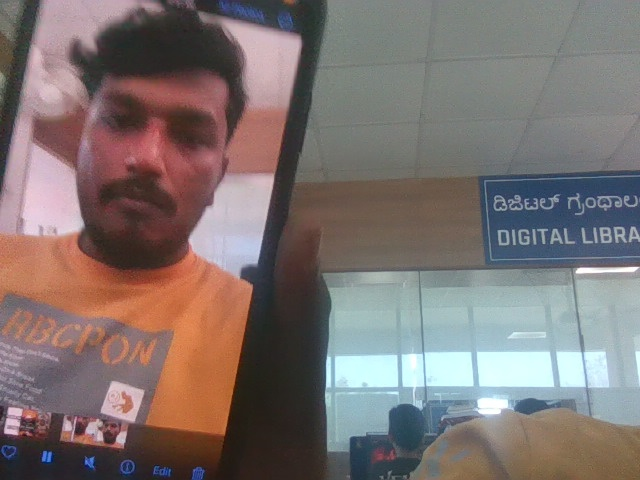fake: (56, 0, 251, 277)
